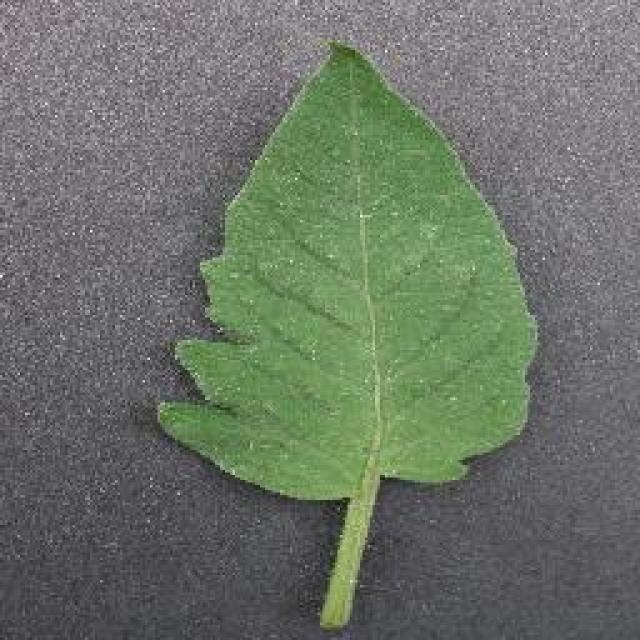Tomato_Healthy: (151, 32, 540, 500)
